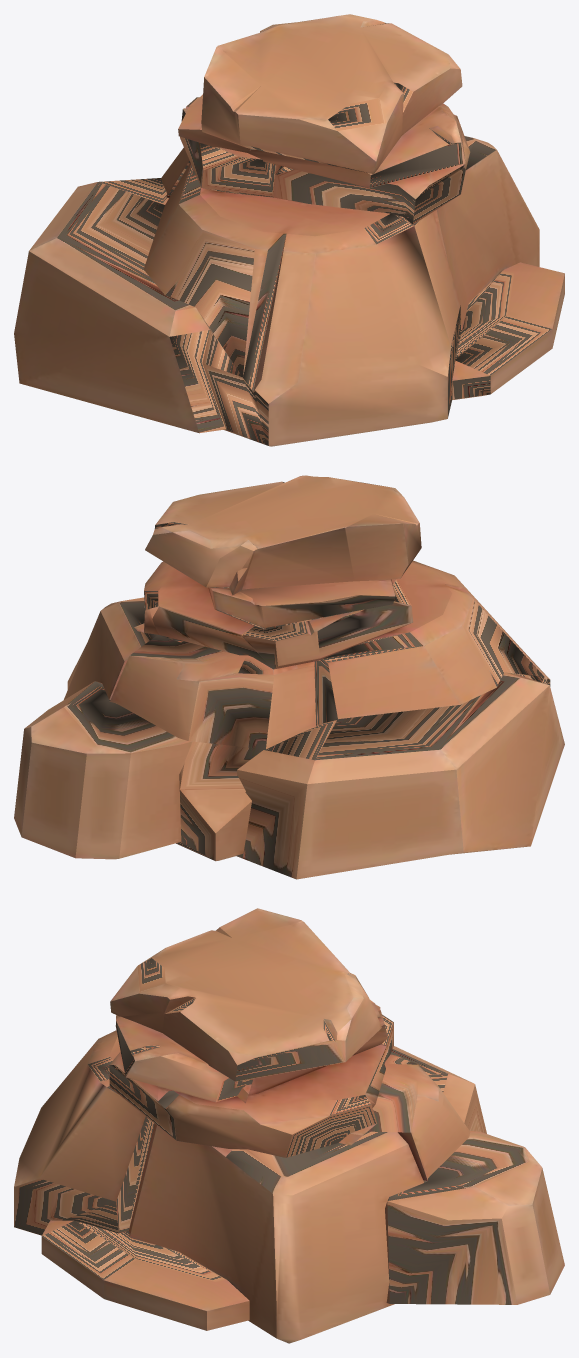
File: desert-rock-06.glb
The picture shows the model from 3 angles, top to bottom: view 1: azimuth 30°, elevation 25°; view 2: azimuth 150°, elevation 25°; view 3: azimuth 270°, elevation 25°; orthographic projection. The views are drawn at different scales.
Parts seen in each view (by area): view 1: Rock_13; view 2: Rock_13; view 3: Rock_13.
Part boxes in pixels (x1=…): Rock_13: x1=14, y1=14, x2=564, y2=446; Rock_13: x1=14, y1=475, x2=564, y2=879; Rock_13: x1=14, y1=908, x2=564, y2=1343.
Size of the model in its own units: 4.69 by 2.6 by 4.6.
Materials: 1 (1 with a texture image).
